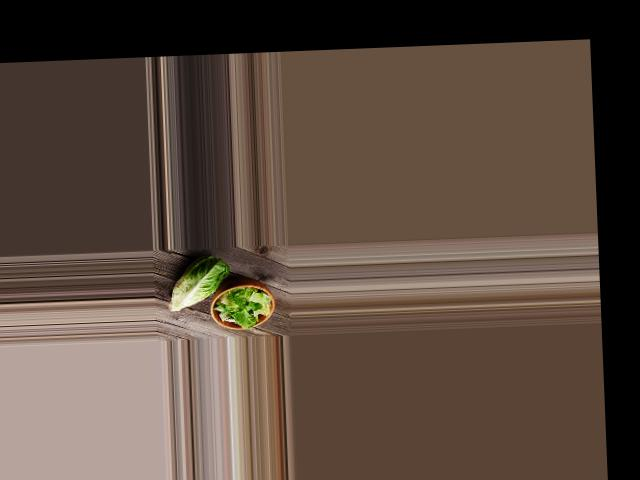lettuce: (168, 252, 230, 311)
